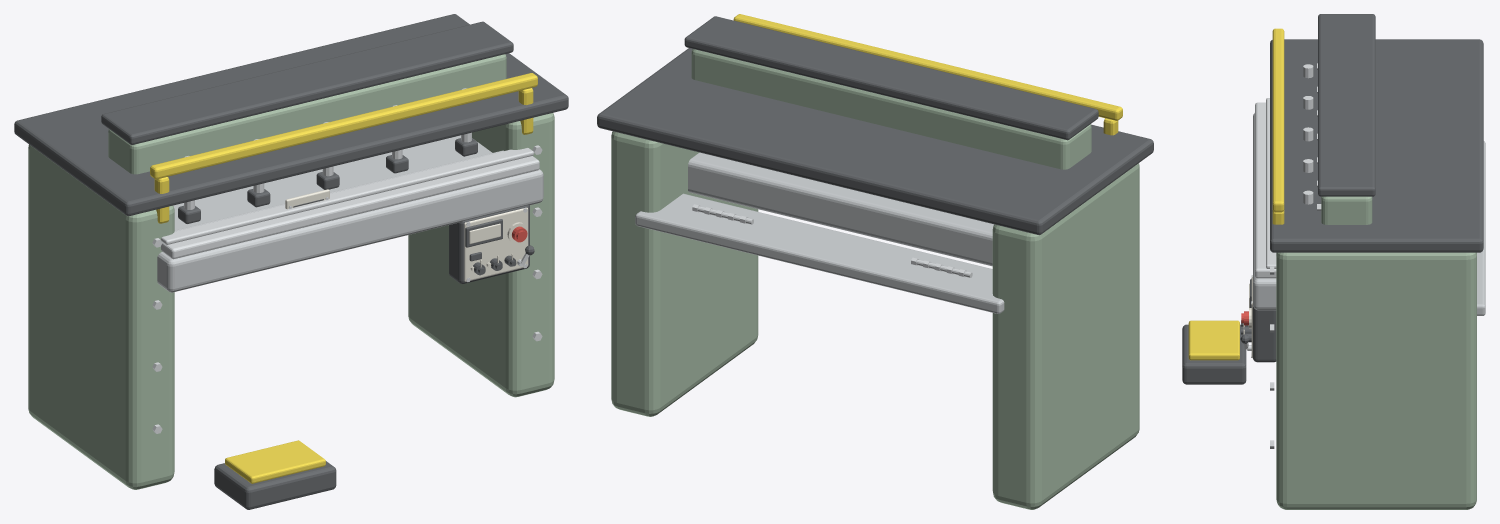
Rendered from sheet-metal-guillotine-shear.glb.
The picture shows the model from 3 angles, left to right: view 1: azimuth 30°, elevation 25°; view 2: azimuth 150°, elevation 25°; view 3: azimuth 270°, elevation 25°; orthographic projection. The views are drawn at different scales.
Visible parts, largest first — view 1: machine-shop-and-factory-hall-sheet-metal-shear, shear-blade/charcoal, shear-blade/enamel; view 2: machine-shop-and-factory-hall-sheet-metal-shear, shear-blade/charcoal, shear-blade/enamel; view 3: machine-shop-and-factory-hall-sheet-metal-shear, shear-blade/charcoal, shear-blade/enamel.
Boxes of the visible parts, x1,y1,x2,y2 form: machine-shop-and-factory-hall-sheet-metal-shear: (14, 14, 568, 509); shear-blade/charcoal: (101, 21, 513, 144); shear-blade/enamel: (108, 54, 506, 174); machine-shop-and-factory-hall-sheet-metal-shear: (597, 14, 1153, 509); shear-blade/charcoal: (684, 16, 1098, 140); shear-blade/enamel: (691, 49, 1091, 169); machine-shop-and-factory-hall-sheet-metal-shear: (1182, 28, 1485, 509); shear-blade/charcoal: (1318, 14, 1375, 196); shear-blade/enamel: (1321, 196, 1372, 224).
Bounding box in the file's own units: 2.24 × 1.63 × 1.42.
